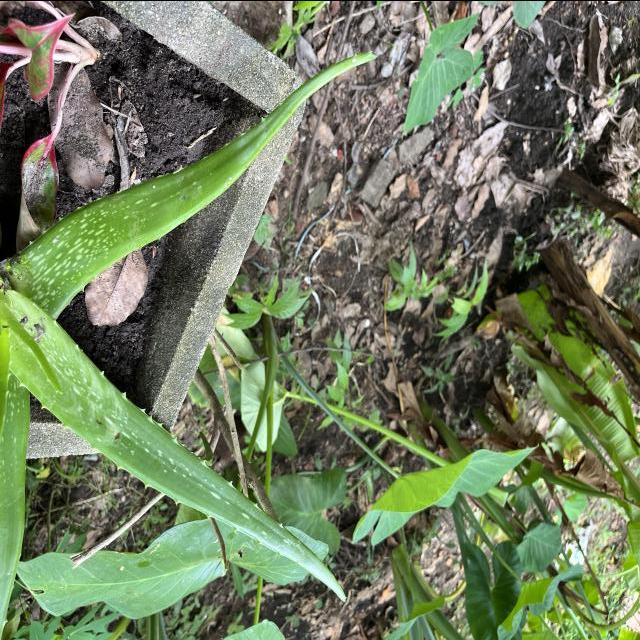Aloe vera: (0, 284, 349, 606), (1, 41, 386, 320)
